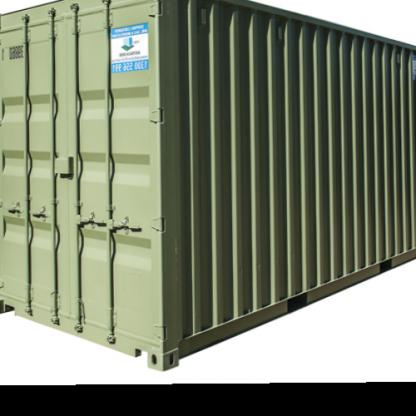Damage: (172, 223, 187, 294)
